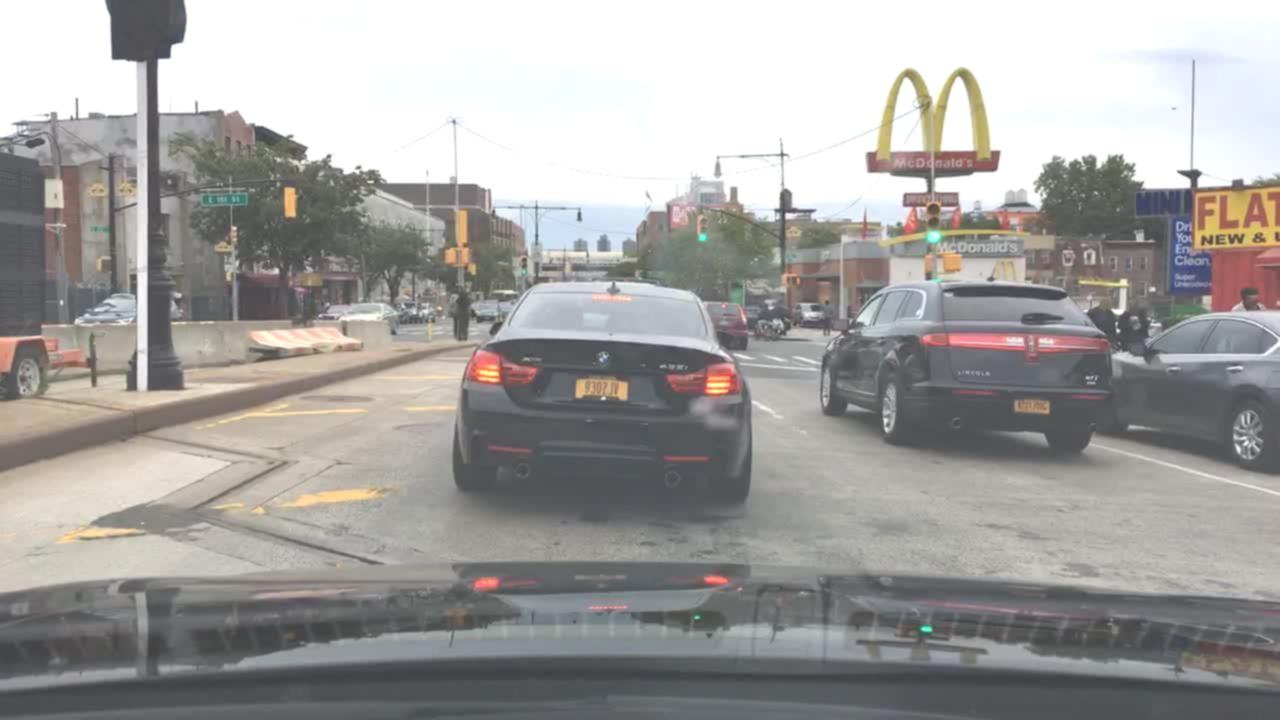bmw: (586, 343, 617, 374)
lincoln: (1022, 330, 1039, 362)
